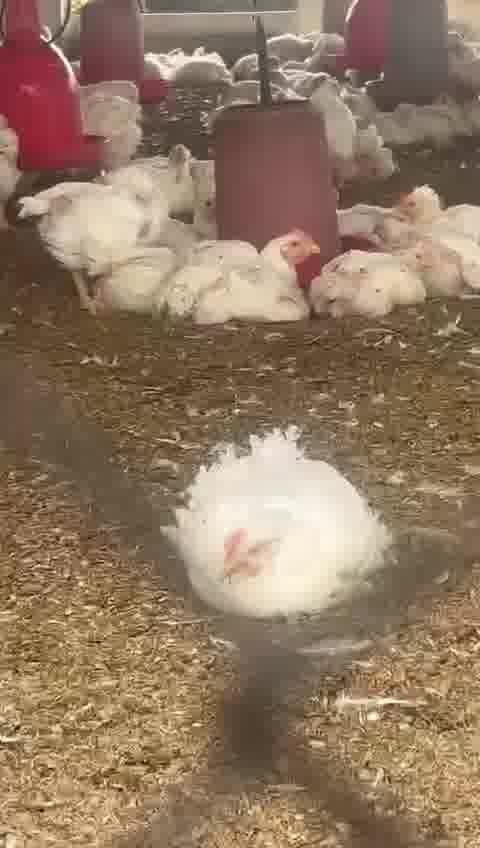AbNormal: (172, 430, 390, 621), (176, 230, 325, 325), (397, 187, 478, 292)
Normal: (32, 174, 170, 306)
